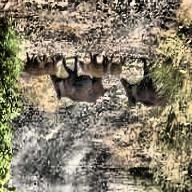boar: (116, 57, 185, 114), (44, 66, 101, 108), (75, 46, 119, 81), (22, 49, 61, 83), (104, 56, 124, 80)
